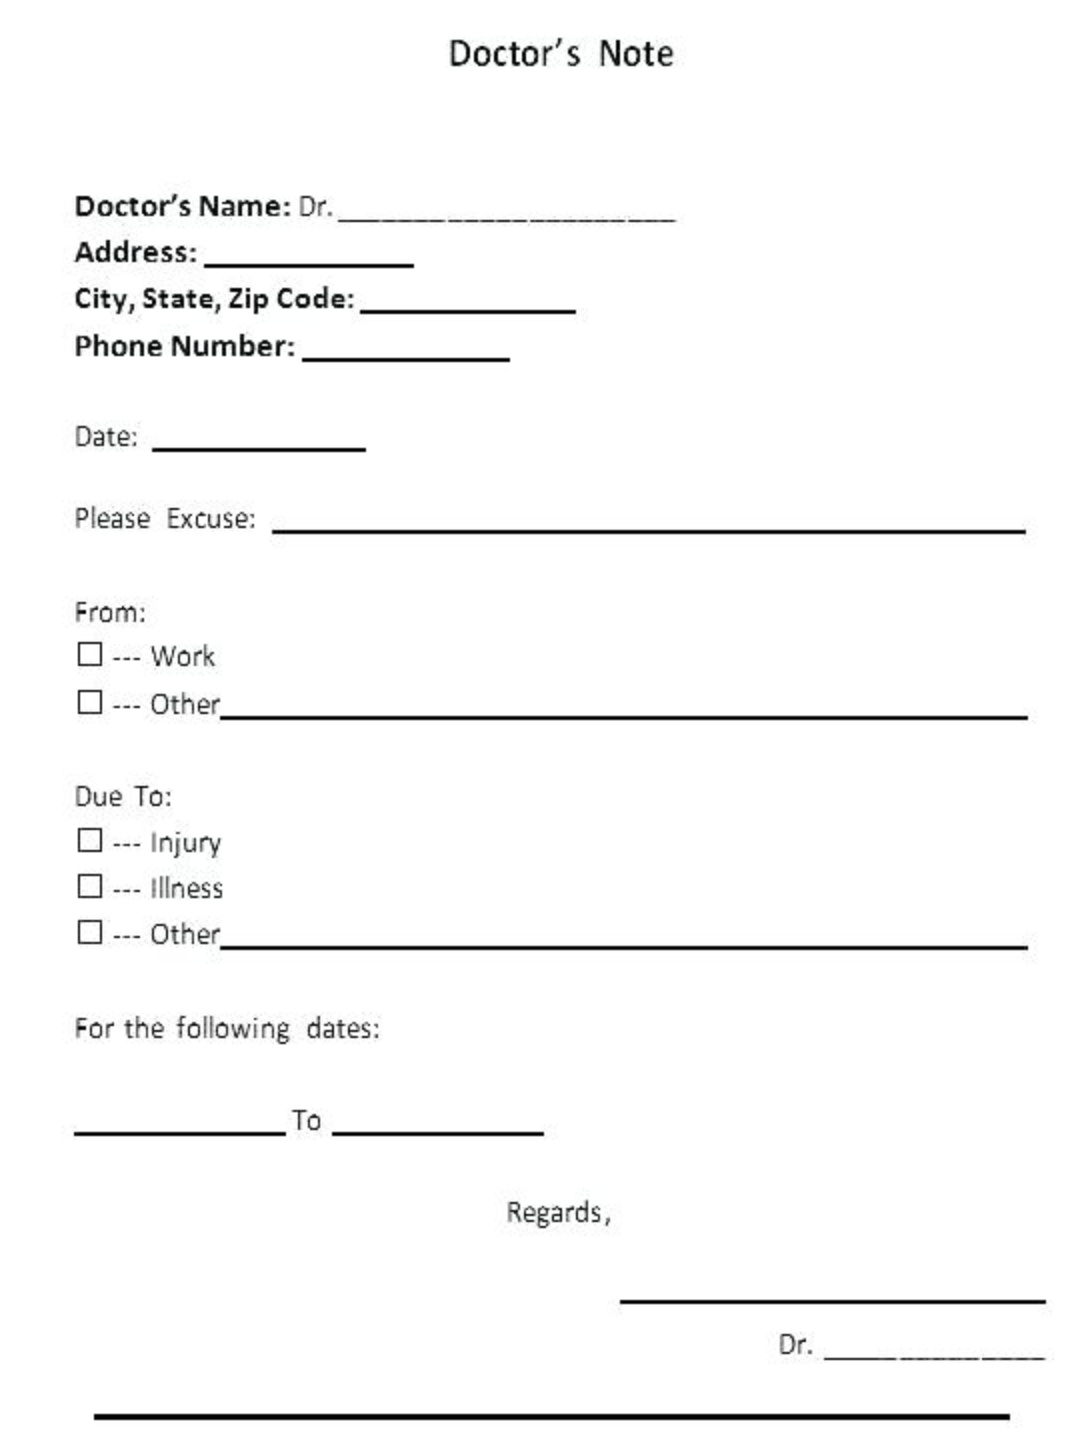checkbox: (73, 685, 110, 723), (72, 818, 107, 855), (74, 637, 108, 675), (71, 868, 109, 902), (72, 915, 109, 949)
textline: (209, 900, 1040, 966), (213, 678, 1039, 729), (260, 488, 1038, 542), (608, 1261, 1054, 1313), (331, 183, 685, 232), (350, 275, 588, 323), (62, 1097, 291, 1146), (816, 1325, 1056, 1370), (198, 228, 425, 275), (140, 415, 379, 458), (292, 326, 513, 373), (327, 1098, 551, 1142)
